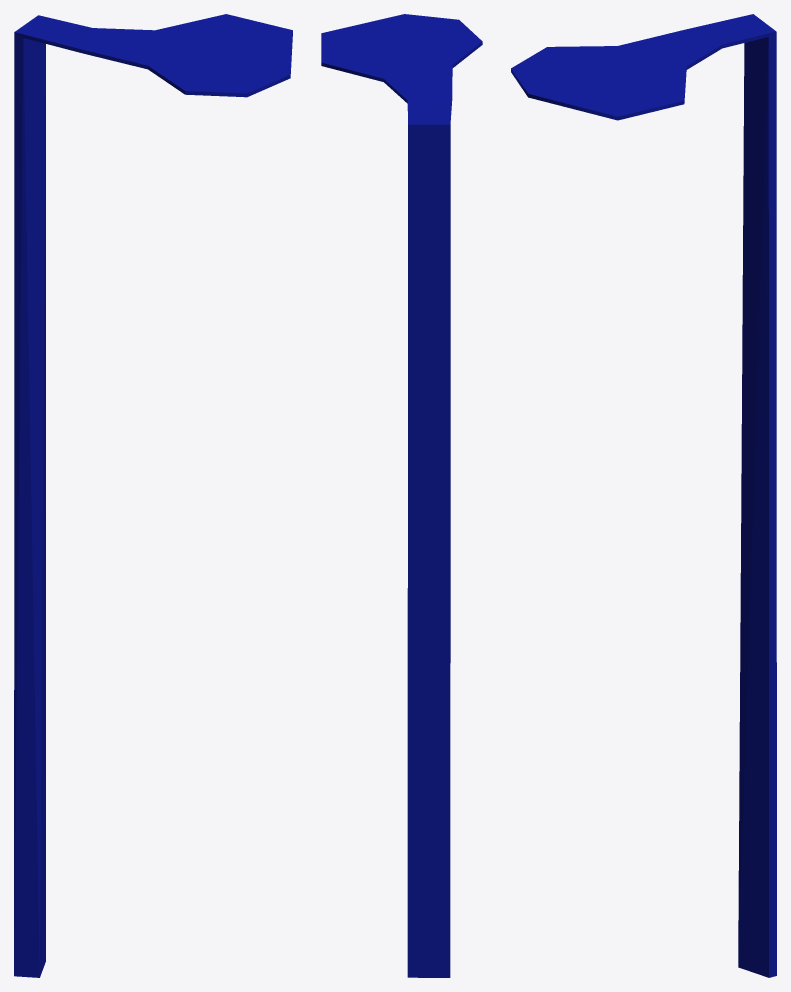
File: eau.FBX
3 views of the same model, side by side, from view 1: azimuth 30°, elevation 25°; view 2: azimuth 150°, elevation 25°; view 3: azimuth 270°, elevation 25° (orthographic). The views are drawn at different scales.
Parts seen in each view (by area): view 1: Water; view 2: Water; view 3: Water.
Part boxes in pixels (left/top/right/bottom): Water: left=14, top=14, right=292, bottom=977; Water: left=321, top=14, right=482, bottom=977; Water: left=511, top=14, right=776, bottom=977.
Bounding box in the file's own units: 99.52 × 426 × 109.
